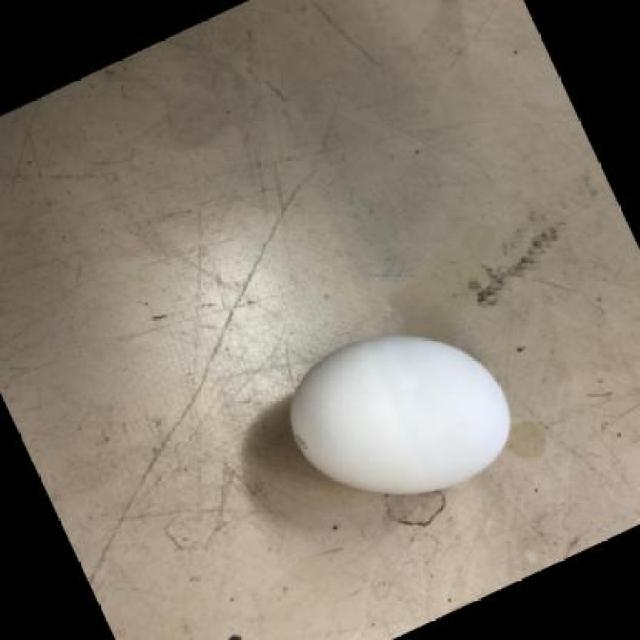egg: (286, 326, 517, 498)
